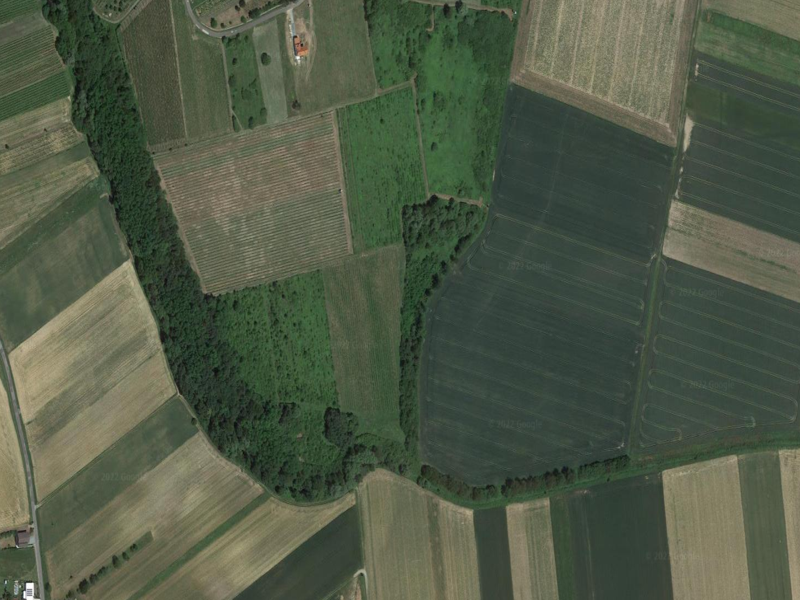field: (152, 110, 350, 291)
